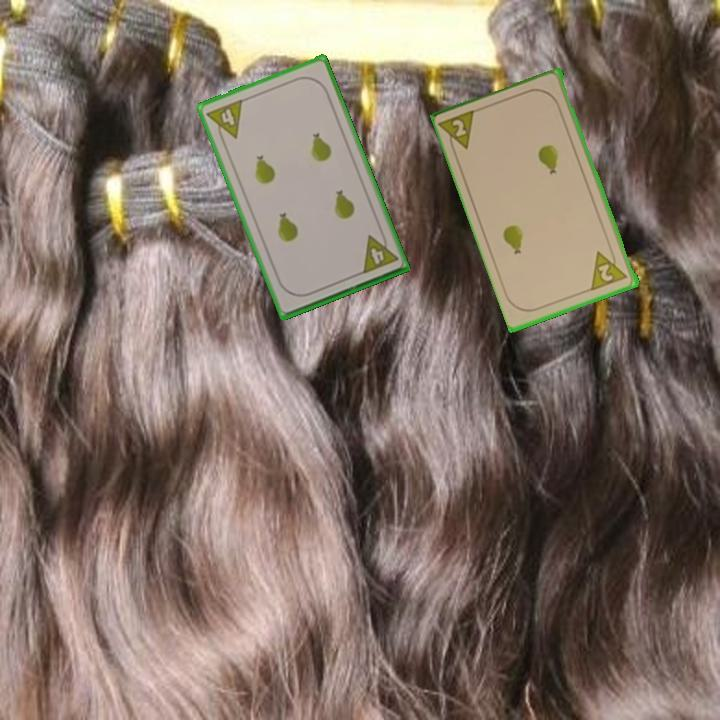2p: (437, 106, 480, 157), (588, 244, 632, 293)
4p: (203, 96, 246, 146), (358, 228, 401, 277)
